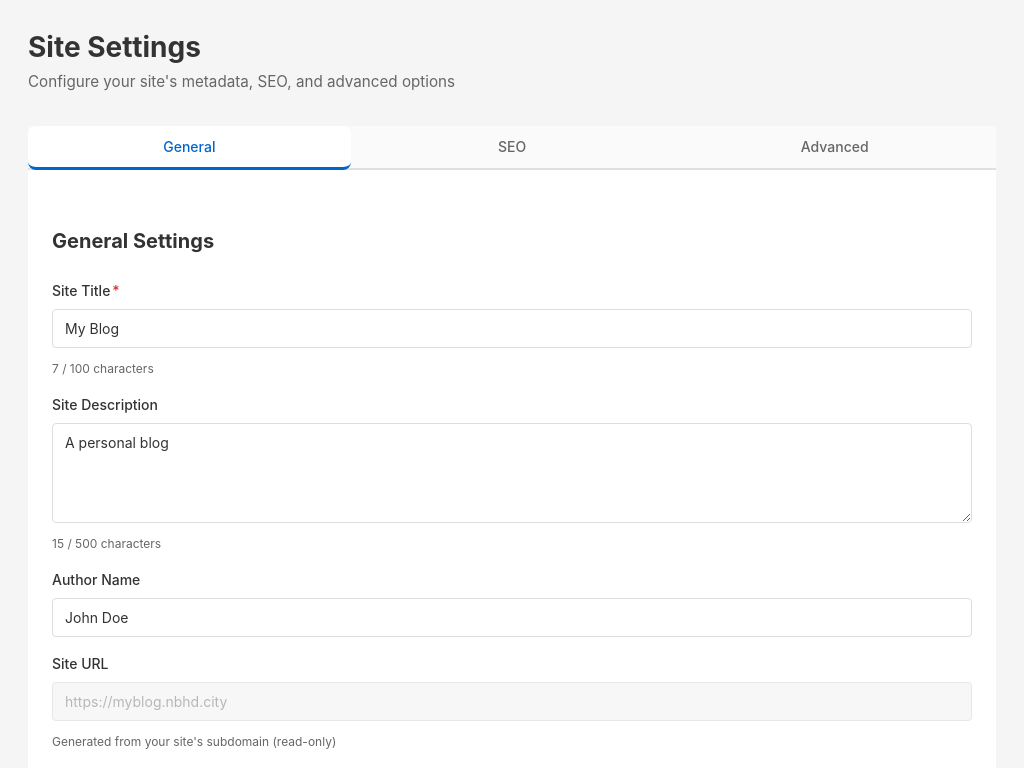
Test: SiteSettingsManager › displays all advanced settings fields in Advanced tab
Click the tab "Advanced": coordinates (835, 148) top-left (673, 126), bottom-right (996, 170)
(page scrolled)
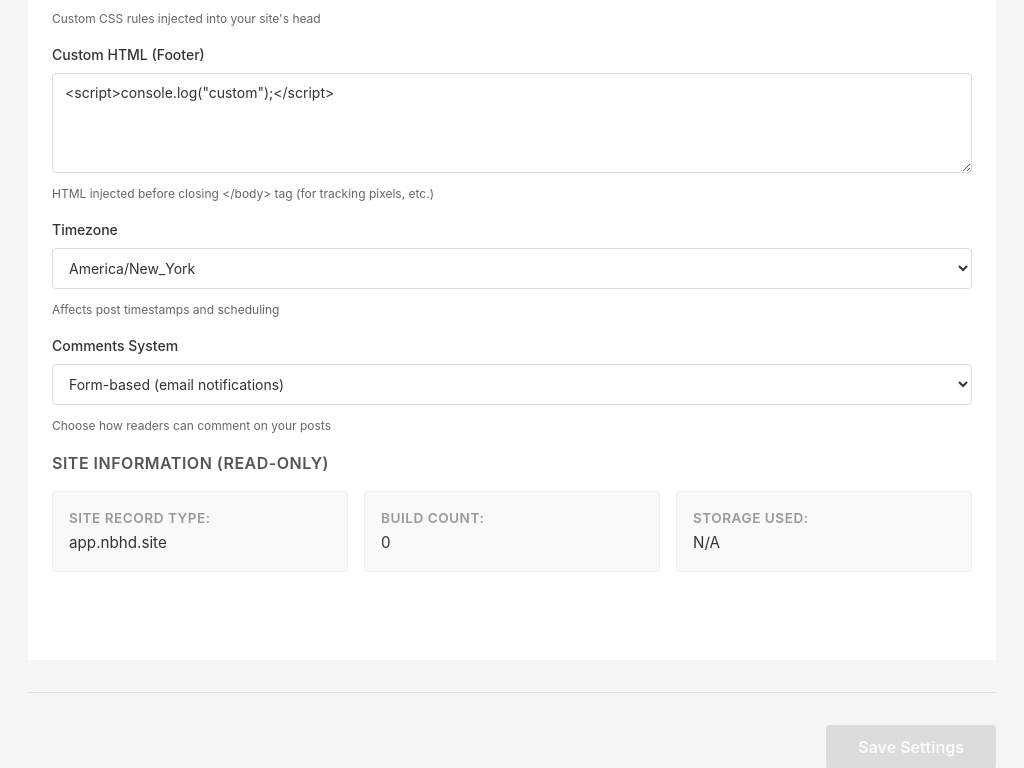
Check: the text box labelled "Custom HTML (Footer)" is shown, box top-left (52, 73), bottom-right (972, 173)
Check: the dropdown labelled "Timezone" is shown, box top-left (52, 248), bottom-right (972, 289)
Check: the dropdown labelled "Comments System" is shown, box top-left (52, 364), bottom-right (972, 405)
